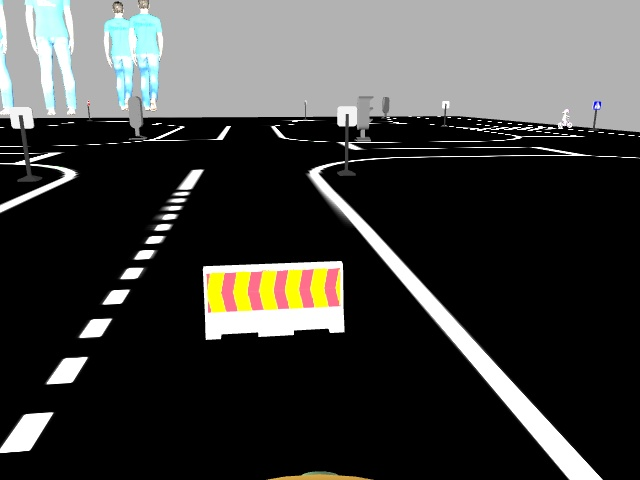ClosedRoadStand: (202, 267, 341, 328)
